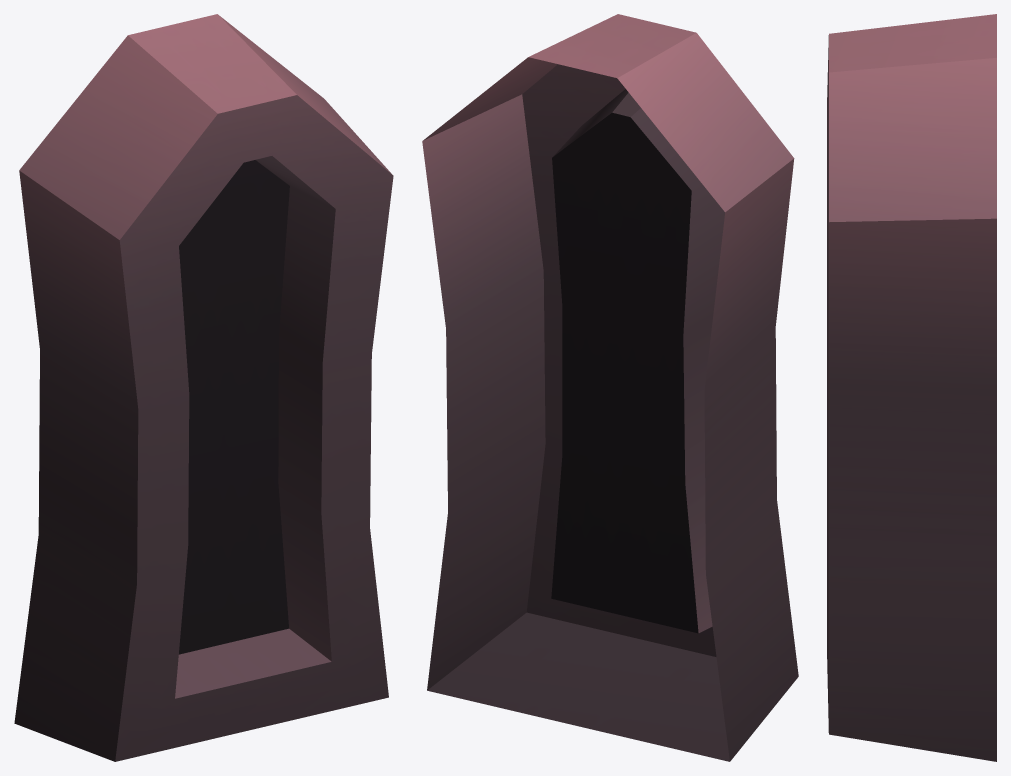
File: undead_window_dark.fbx
3 renders of one model, left to right at view 1: azimuth 30°, elevation 25°; view 2: azimuth 150°, elevation 25°; view 3: azimuth 270°, elevation 25°, orthographic.
Visible parts, largest first — view 1: undead_window_dark; view 2: undead_window_dark; view 3: undead_window_dark.
Part boxes in pixels (box(x1,y1,x2,y2)): undead_window_dark: box(14, 14, 393, 761); undead_window_dark: box(422, 14, 798, 761); undead_window_dark: box(827, 14, 996, 761).
Size of the model in its own units: 0.9605 by 1.96 by 0.4612.
